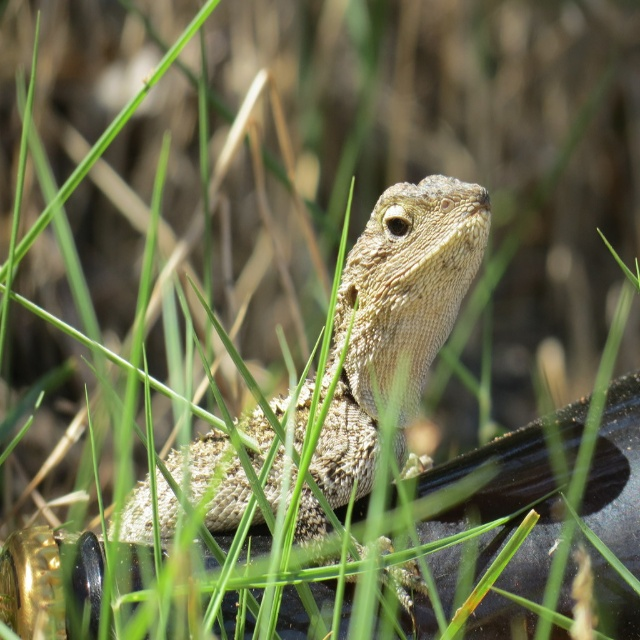Lizard: (108, 169, 494, 617)
